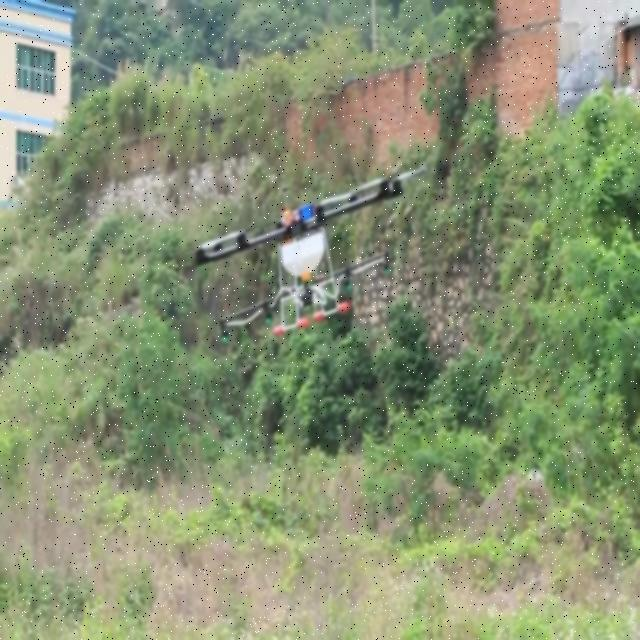UAV: (196, 167, 426, 343)
